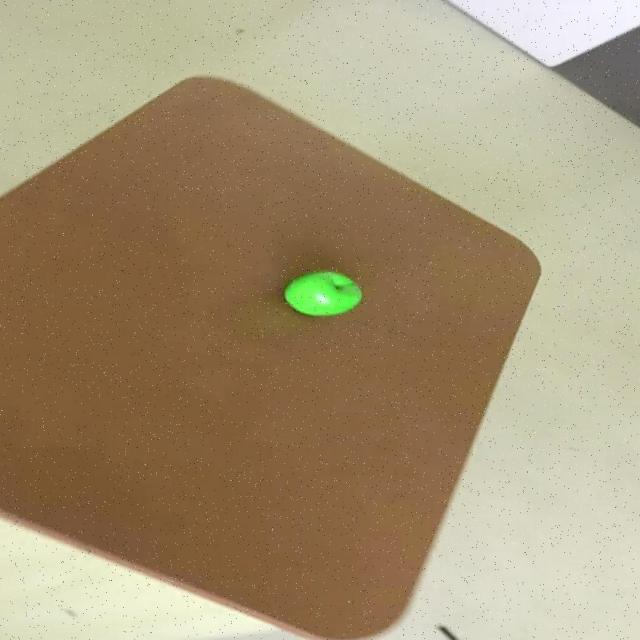Apple: (282, 269, 362, 316)
